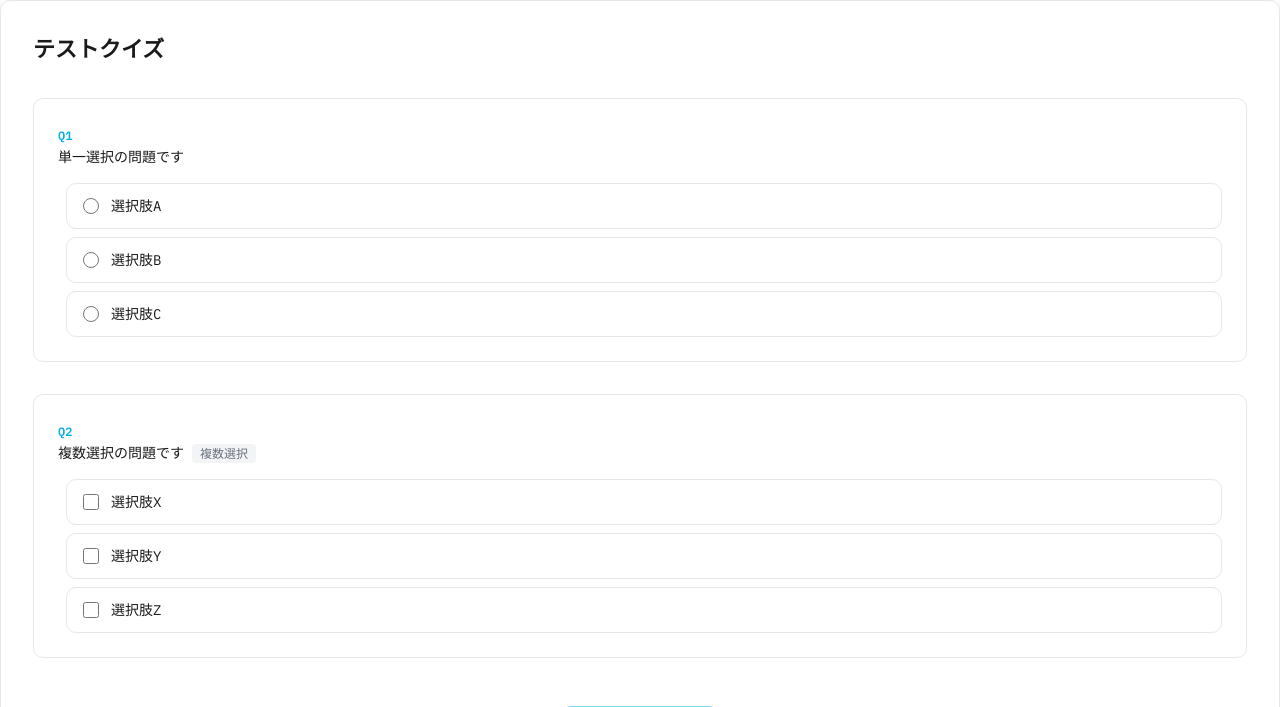
Test: QuizClient › 結果フェーズ (graded) › 送信後にスコアが表示される
The image size is (1280, 707).
Click the radio button labelled "選択肢B": (91, 260) [83,252,99,268]
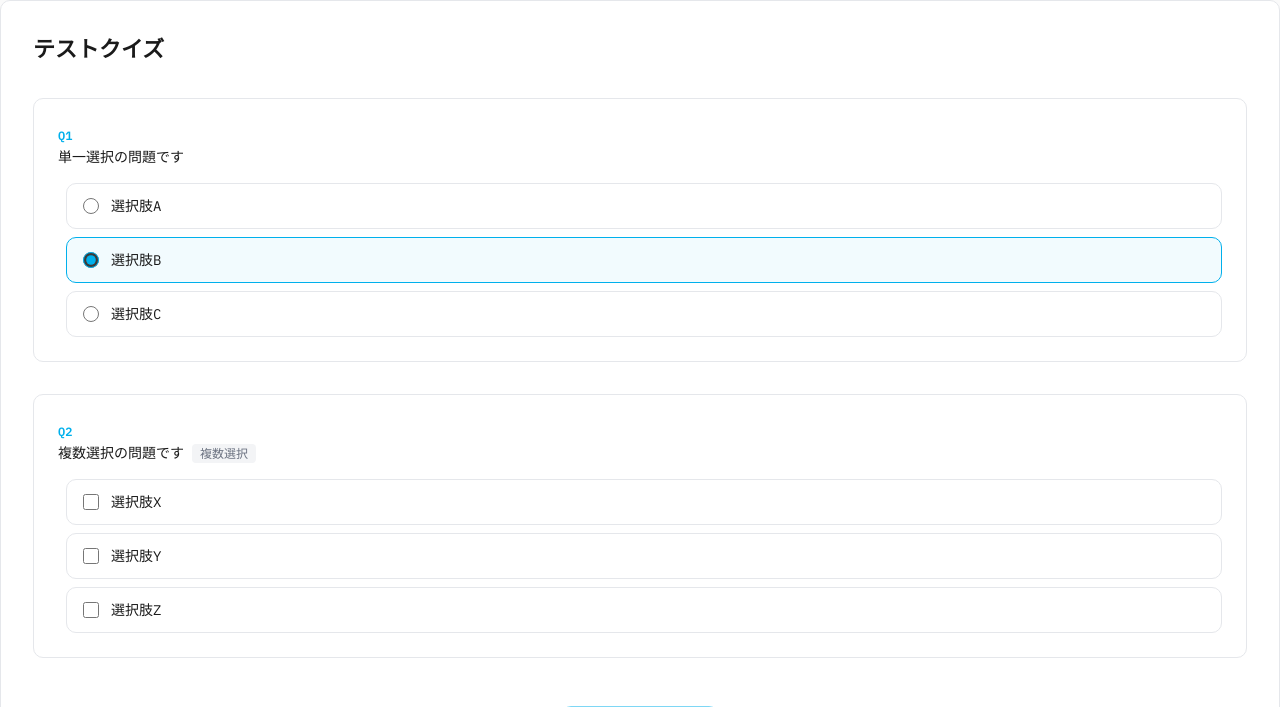
Click the checkbox labelled "選択肢X": (91, 502) [83,494,99,510]
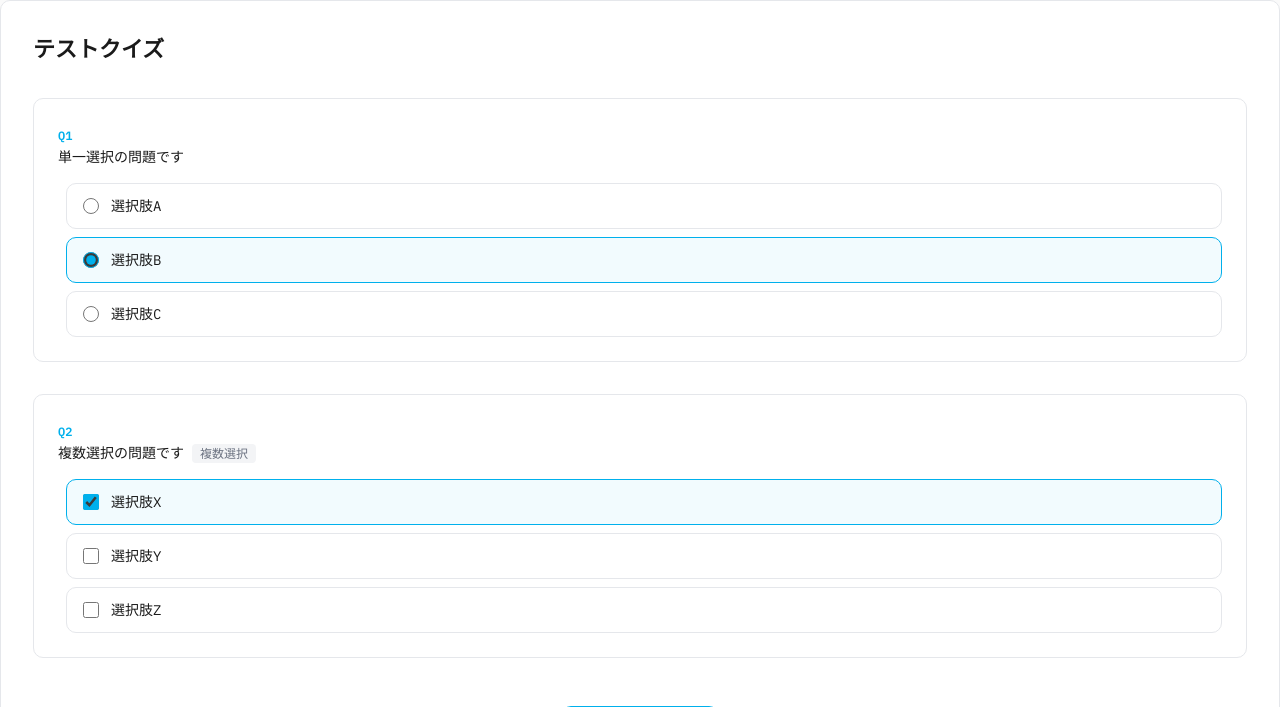
Click the checkbox labelled "選択肢Z": (91, 610) [83,602,99,618]
(page scrolled)
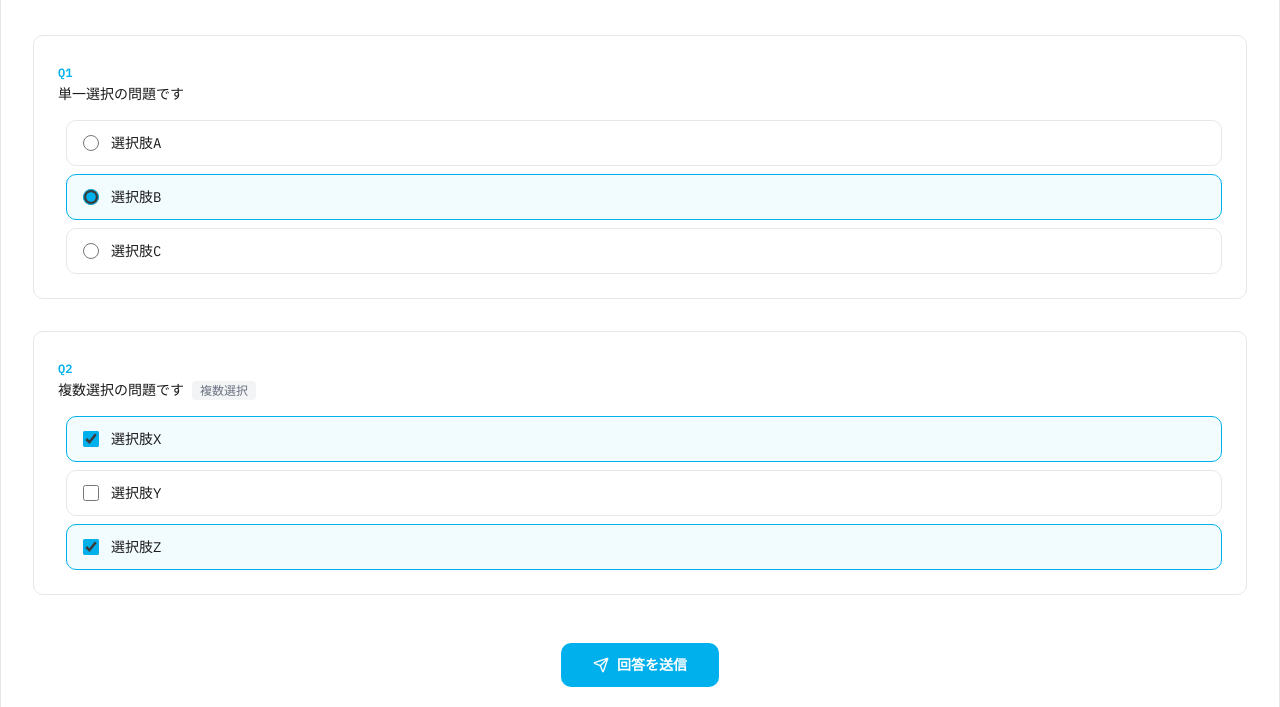
Click the button "回答を送信": (640, 665) [561,643,719,687]
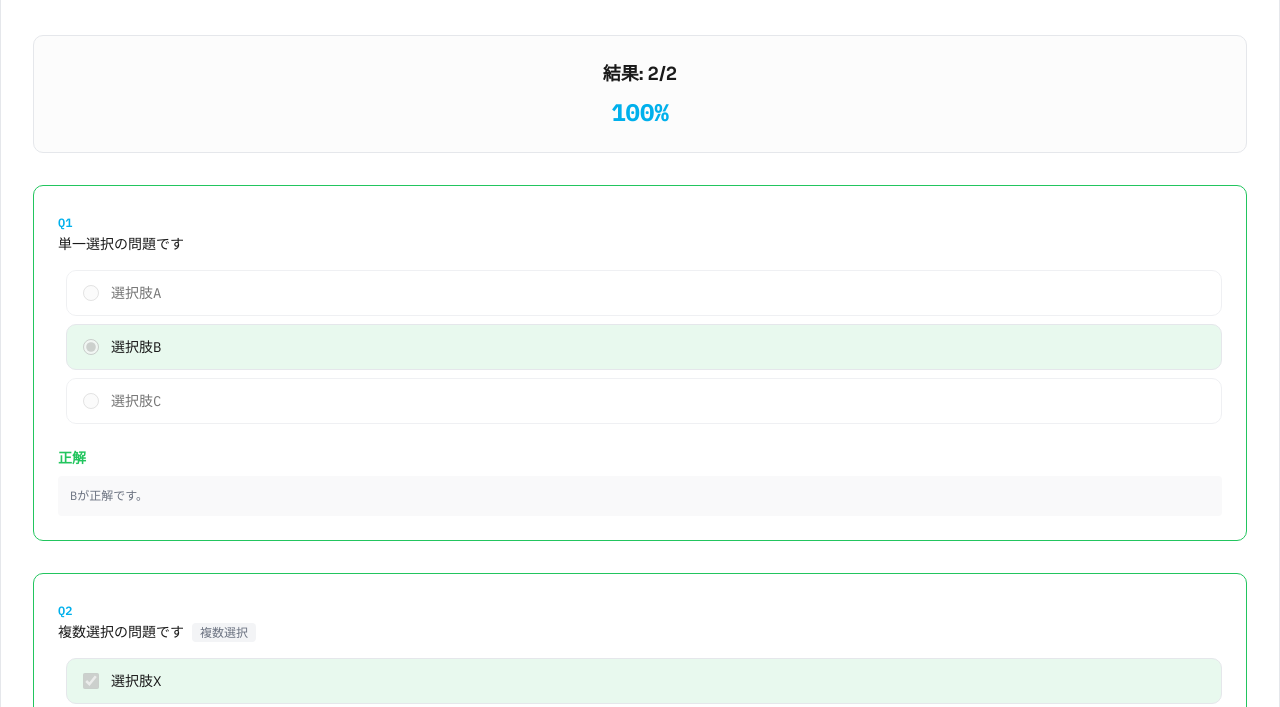
Expected: the text "結果: 2/2" is shown, [603,63,677,85]
Expected: the text "100%" is shown, [611,96,669,128]
